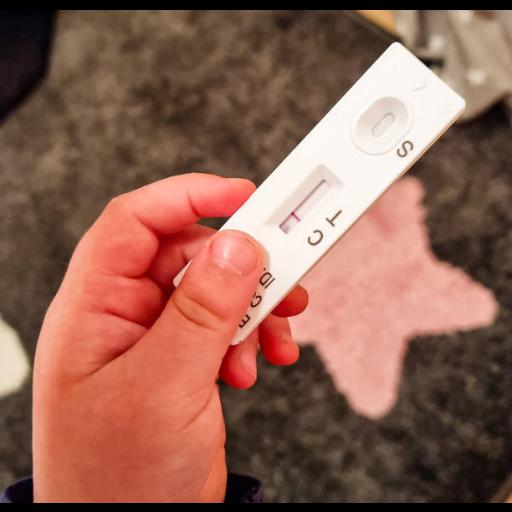Neg: (174, 41, 469, 345)
